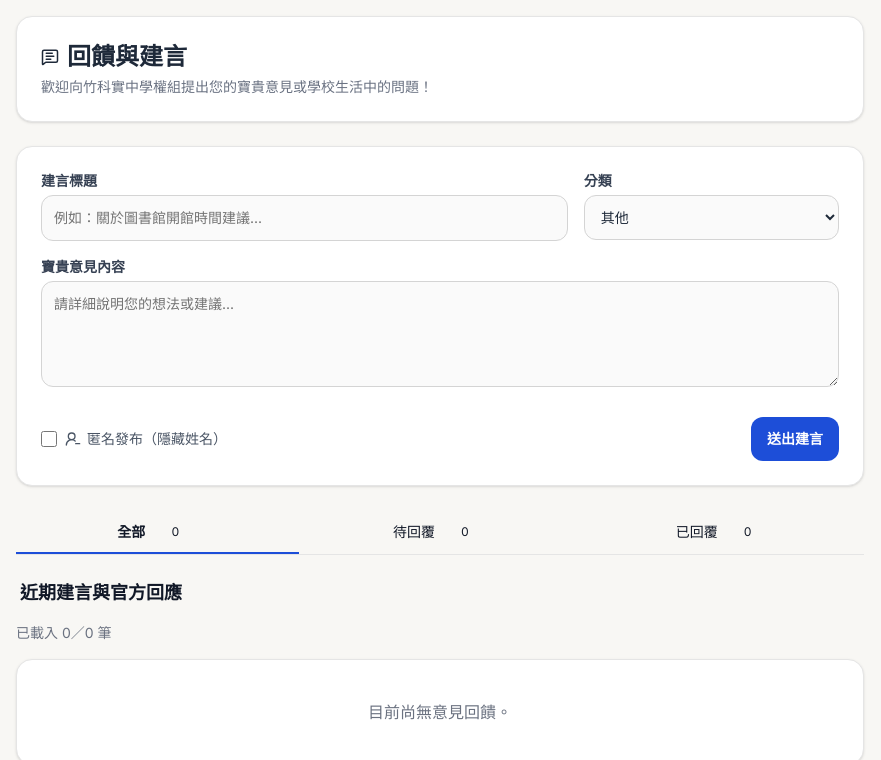
Test: verified student posts anonymously without leaking author identity
Expected: the text "目前尚無意見回饋。" is shown, [368,702,512,722]
Type "Anonymous body text here" into the text box with placeholder "請詳細說明您的想法或建議..." at (440, 334), box [41,281,839,387]
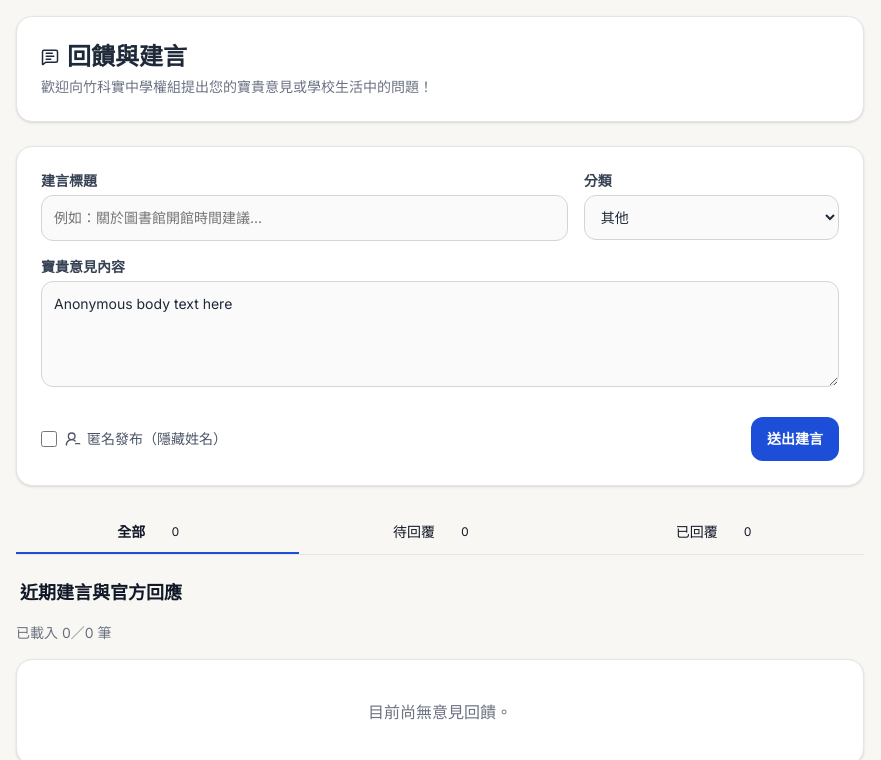
Click the text "匿名發布（隱藏姓名）" at (146, 439), box [65,429,227,449]
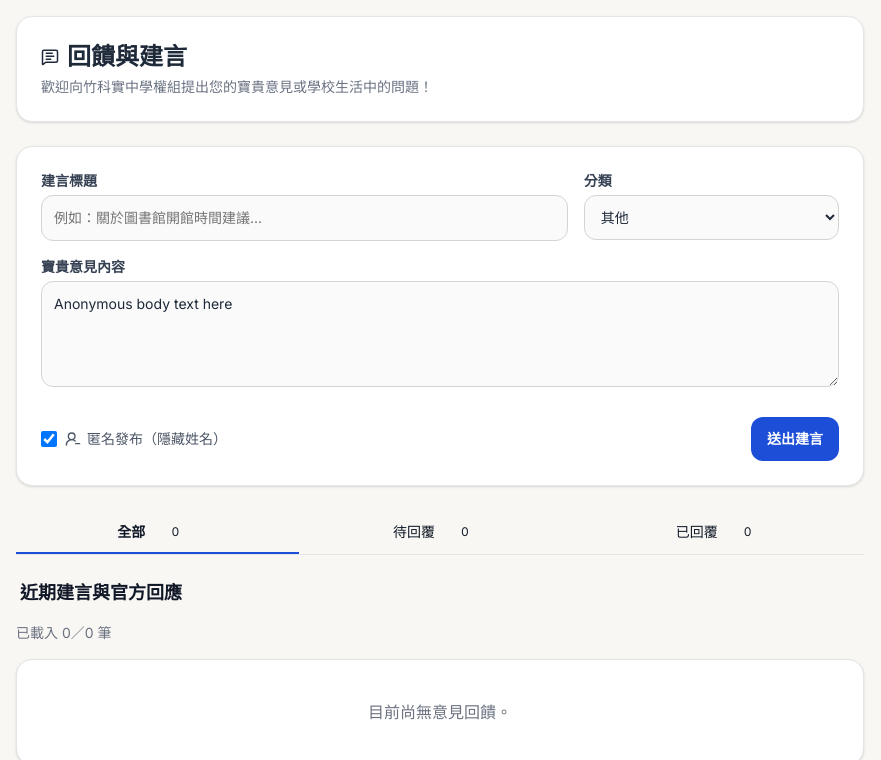
Click the button "送出建言" at (795, 439), box [751,417,839,461]
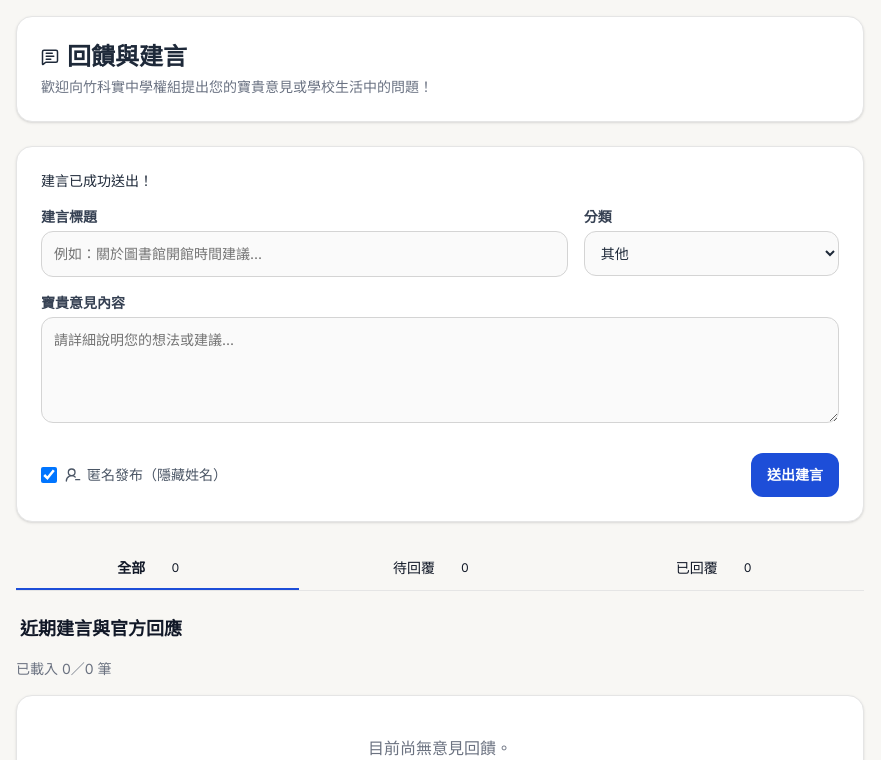
Expected: the message "建言已成功送出！" is shown, [41,172,153,189]
